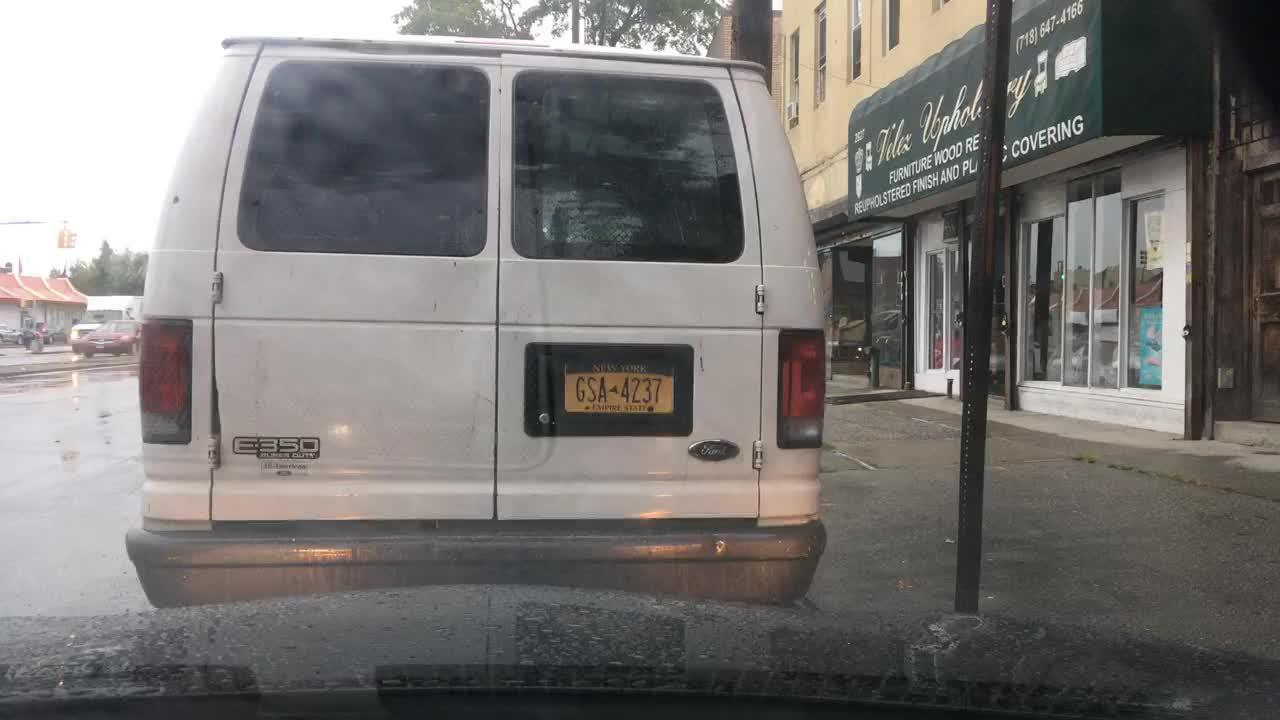ford: (679, 431, 752, 467)
